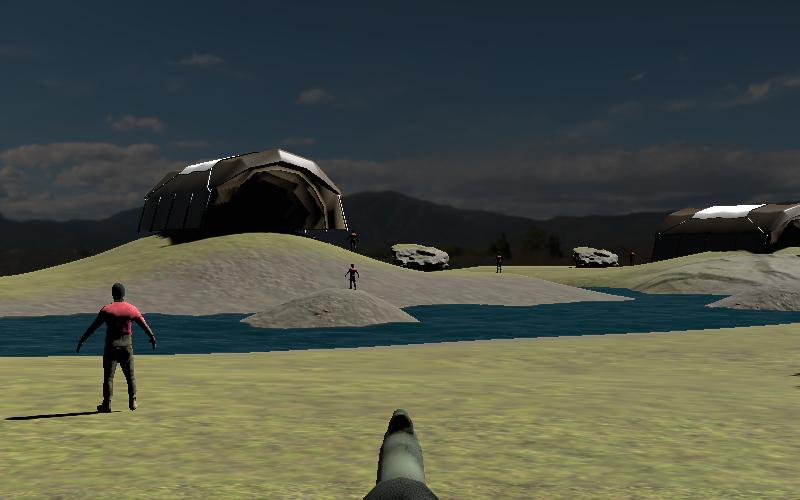Human: (75, 280, 158, 415), (344, 261, 361, 292)
